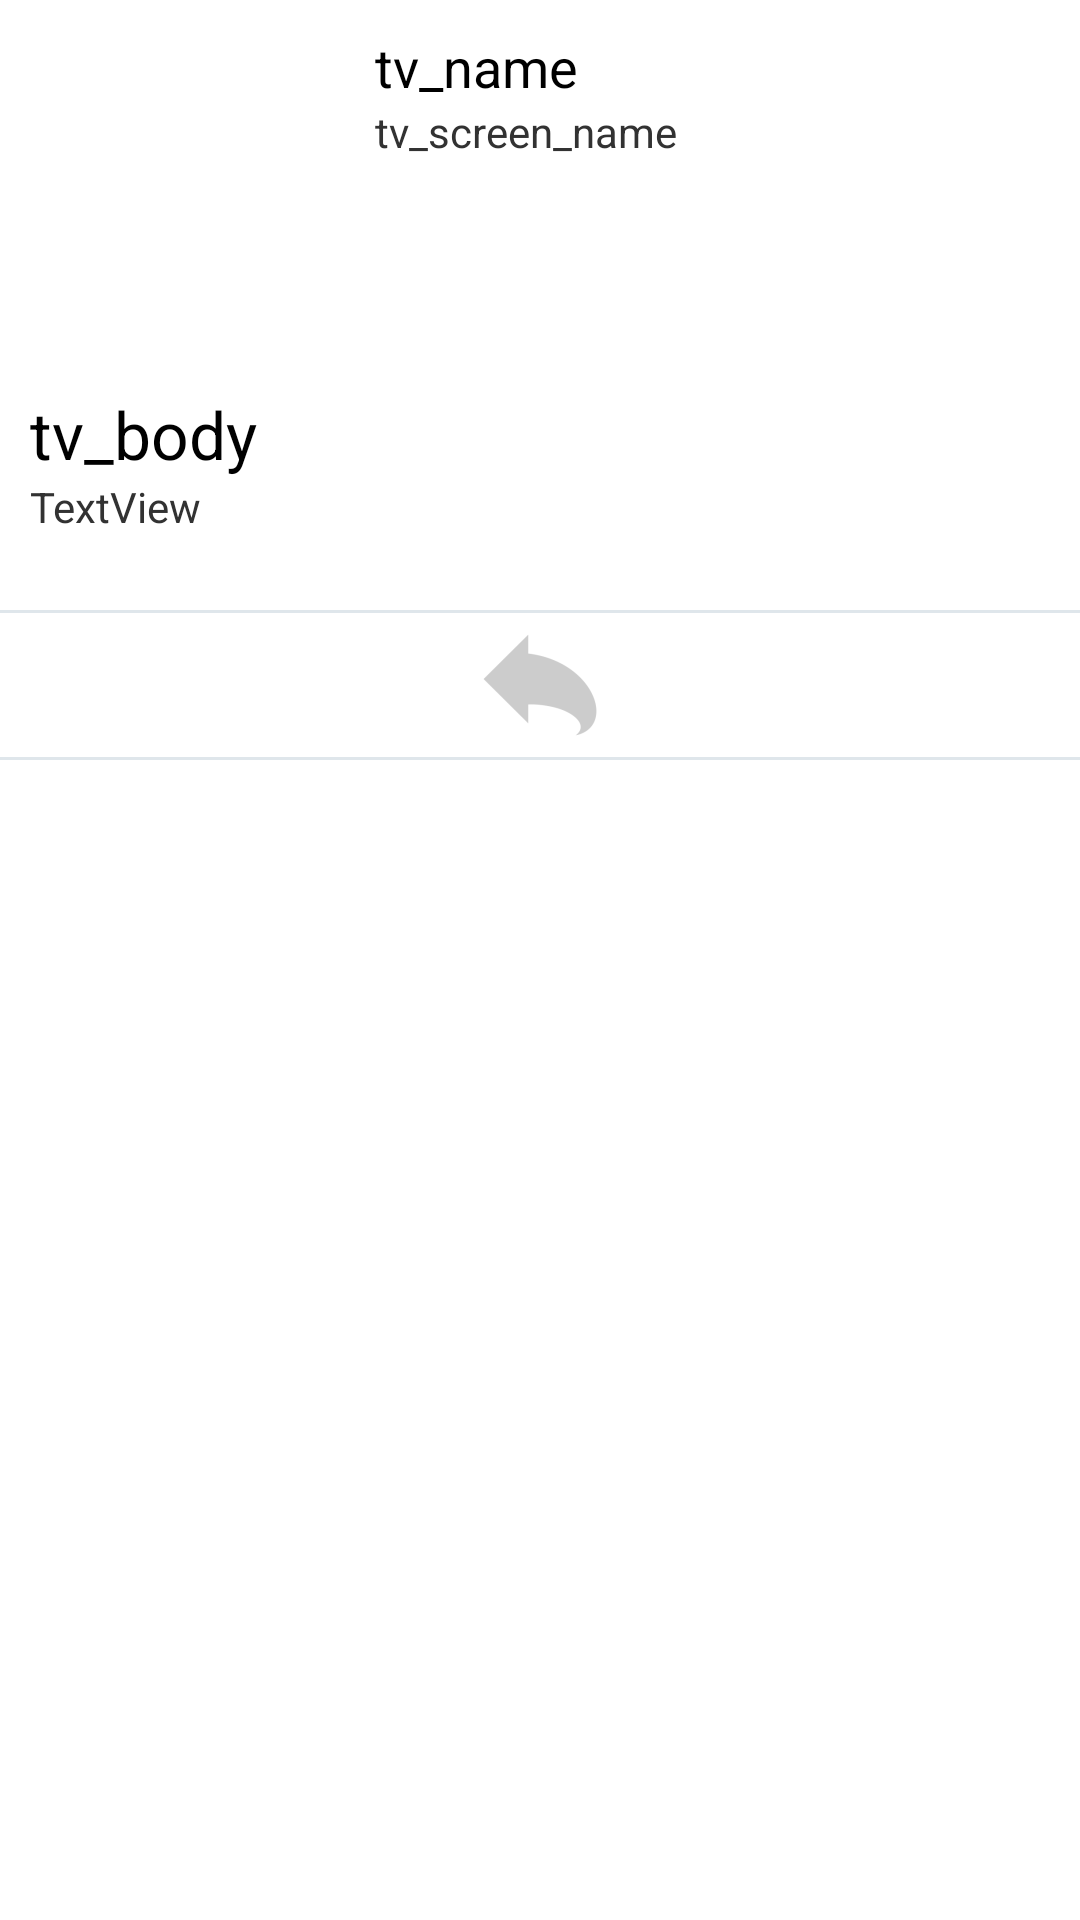

Point at icon controls on the screen. Image size 1080x1920, points as point (x, y).
reply: point (540, 685)
